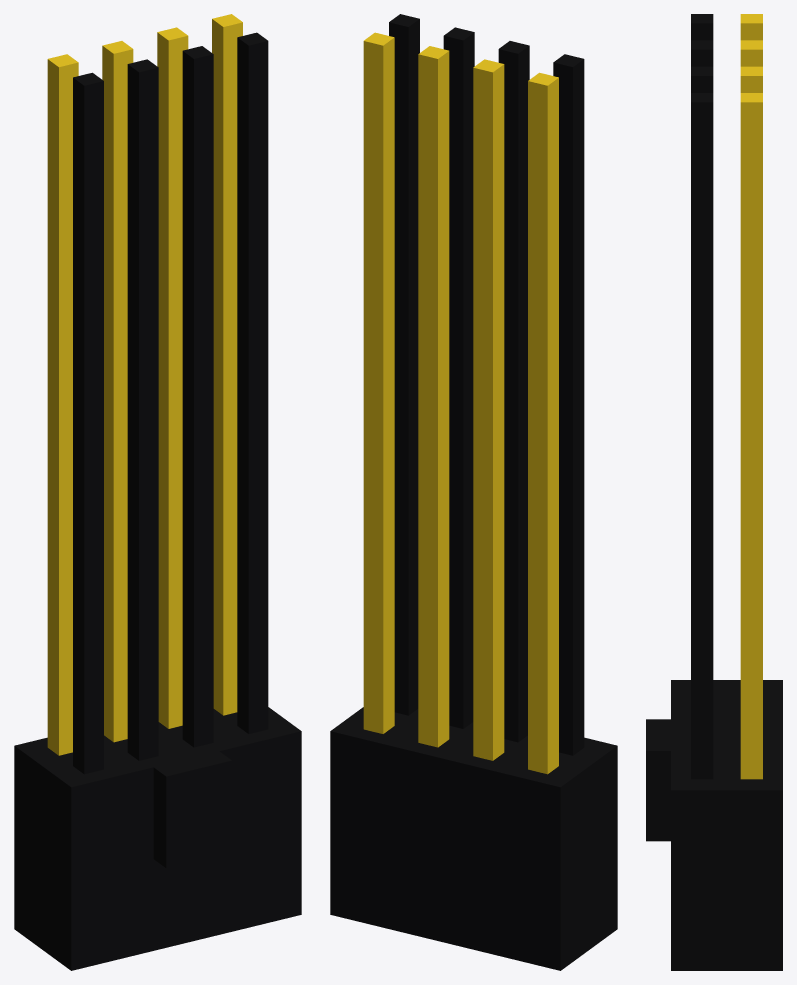
Rendered from PCIe_Plug.obj.
3 views of the same model, side by side, from view 1: azimuth 30°, elevation 25°; view 2: azimuth 150°, elevation 25°; view 3: azimuth 270°, elevation 25° (orthographic).
Parts seen in each view (by area): view 1: Housing, Wire11, Wire21, Wire31, Wire01, Wire00, Wire20, Wire30, Wire10, Latch; view 2: Housing, Wire10, Wire20, Wire30, Wire00, Wire01, Wire21, Wire31, Wire11; view 3: Housing, Wire30, Wire31, Latch, Wire10, Wire11, Wire00, Wire01, Wire20, Wire21.
Part boxes in pixels (box(x1,y1,x2,y2)): Housing: box(14, 707, 301, 970); Wire11: box(127, 59, 158, 760); Wire21: box(182, 46, 213, 747); Wire31: box(237, 32, 268, 733); Wire01: box(73, 72, 103, 774); Wire00: box(47, 54, 78, 755); Wire20: box(157, 27, 188, 728); Wire30: box(212, 14, 242, 715); Wire10: box(102, 41, 133, 742); Latch: box(153, 751, 231, 868); Housing: box(330, 707, 617, 970); Wire10: box(473, 59, 504, 760); Wire20: box(418, 46, 449, 747); Wire30: box(363, 32, 394, 733); Wire00: box(528, 72, 558, 774); Wire01: box(553, 54, 584, 755); Wire21: box(443, 27, 474, 728); Wire31: box(389, 14, 419, 715); Wire11: box(498, 41, 529, 742); Housing: box(671, 680, 782, 970); Wire30: box(740, 93, 762, 779); Wire31: box(691, 93, 713, 779); Latch: box(646, 719, 670, 841); Wire10: box(740, 40, 762, 66); Wire11: box(691, 40, 713, 66); Wire00: box(740, 14, 762, 40); Wire01: box(691, 14, 713, 40); Wire20: box(740, 66, 762, 92); Wire21: box(691, 66, 713, 92).
Size of the model in its own units: 0.021 by 0.076 by 0.011.
